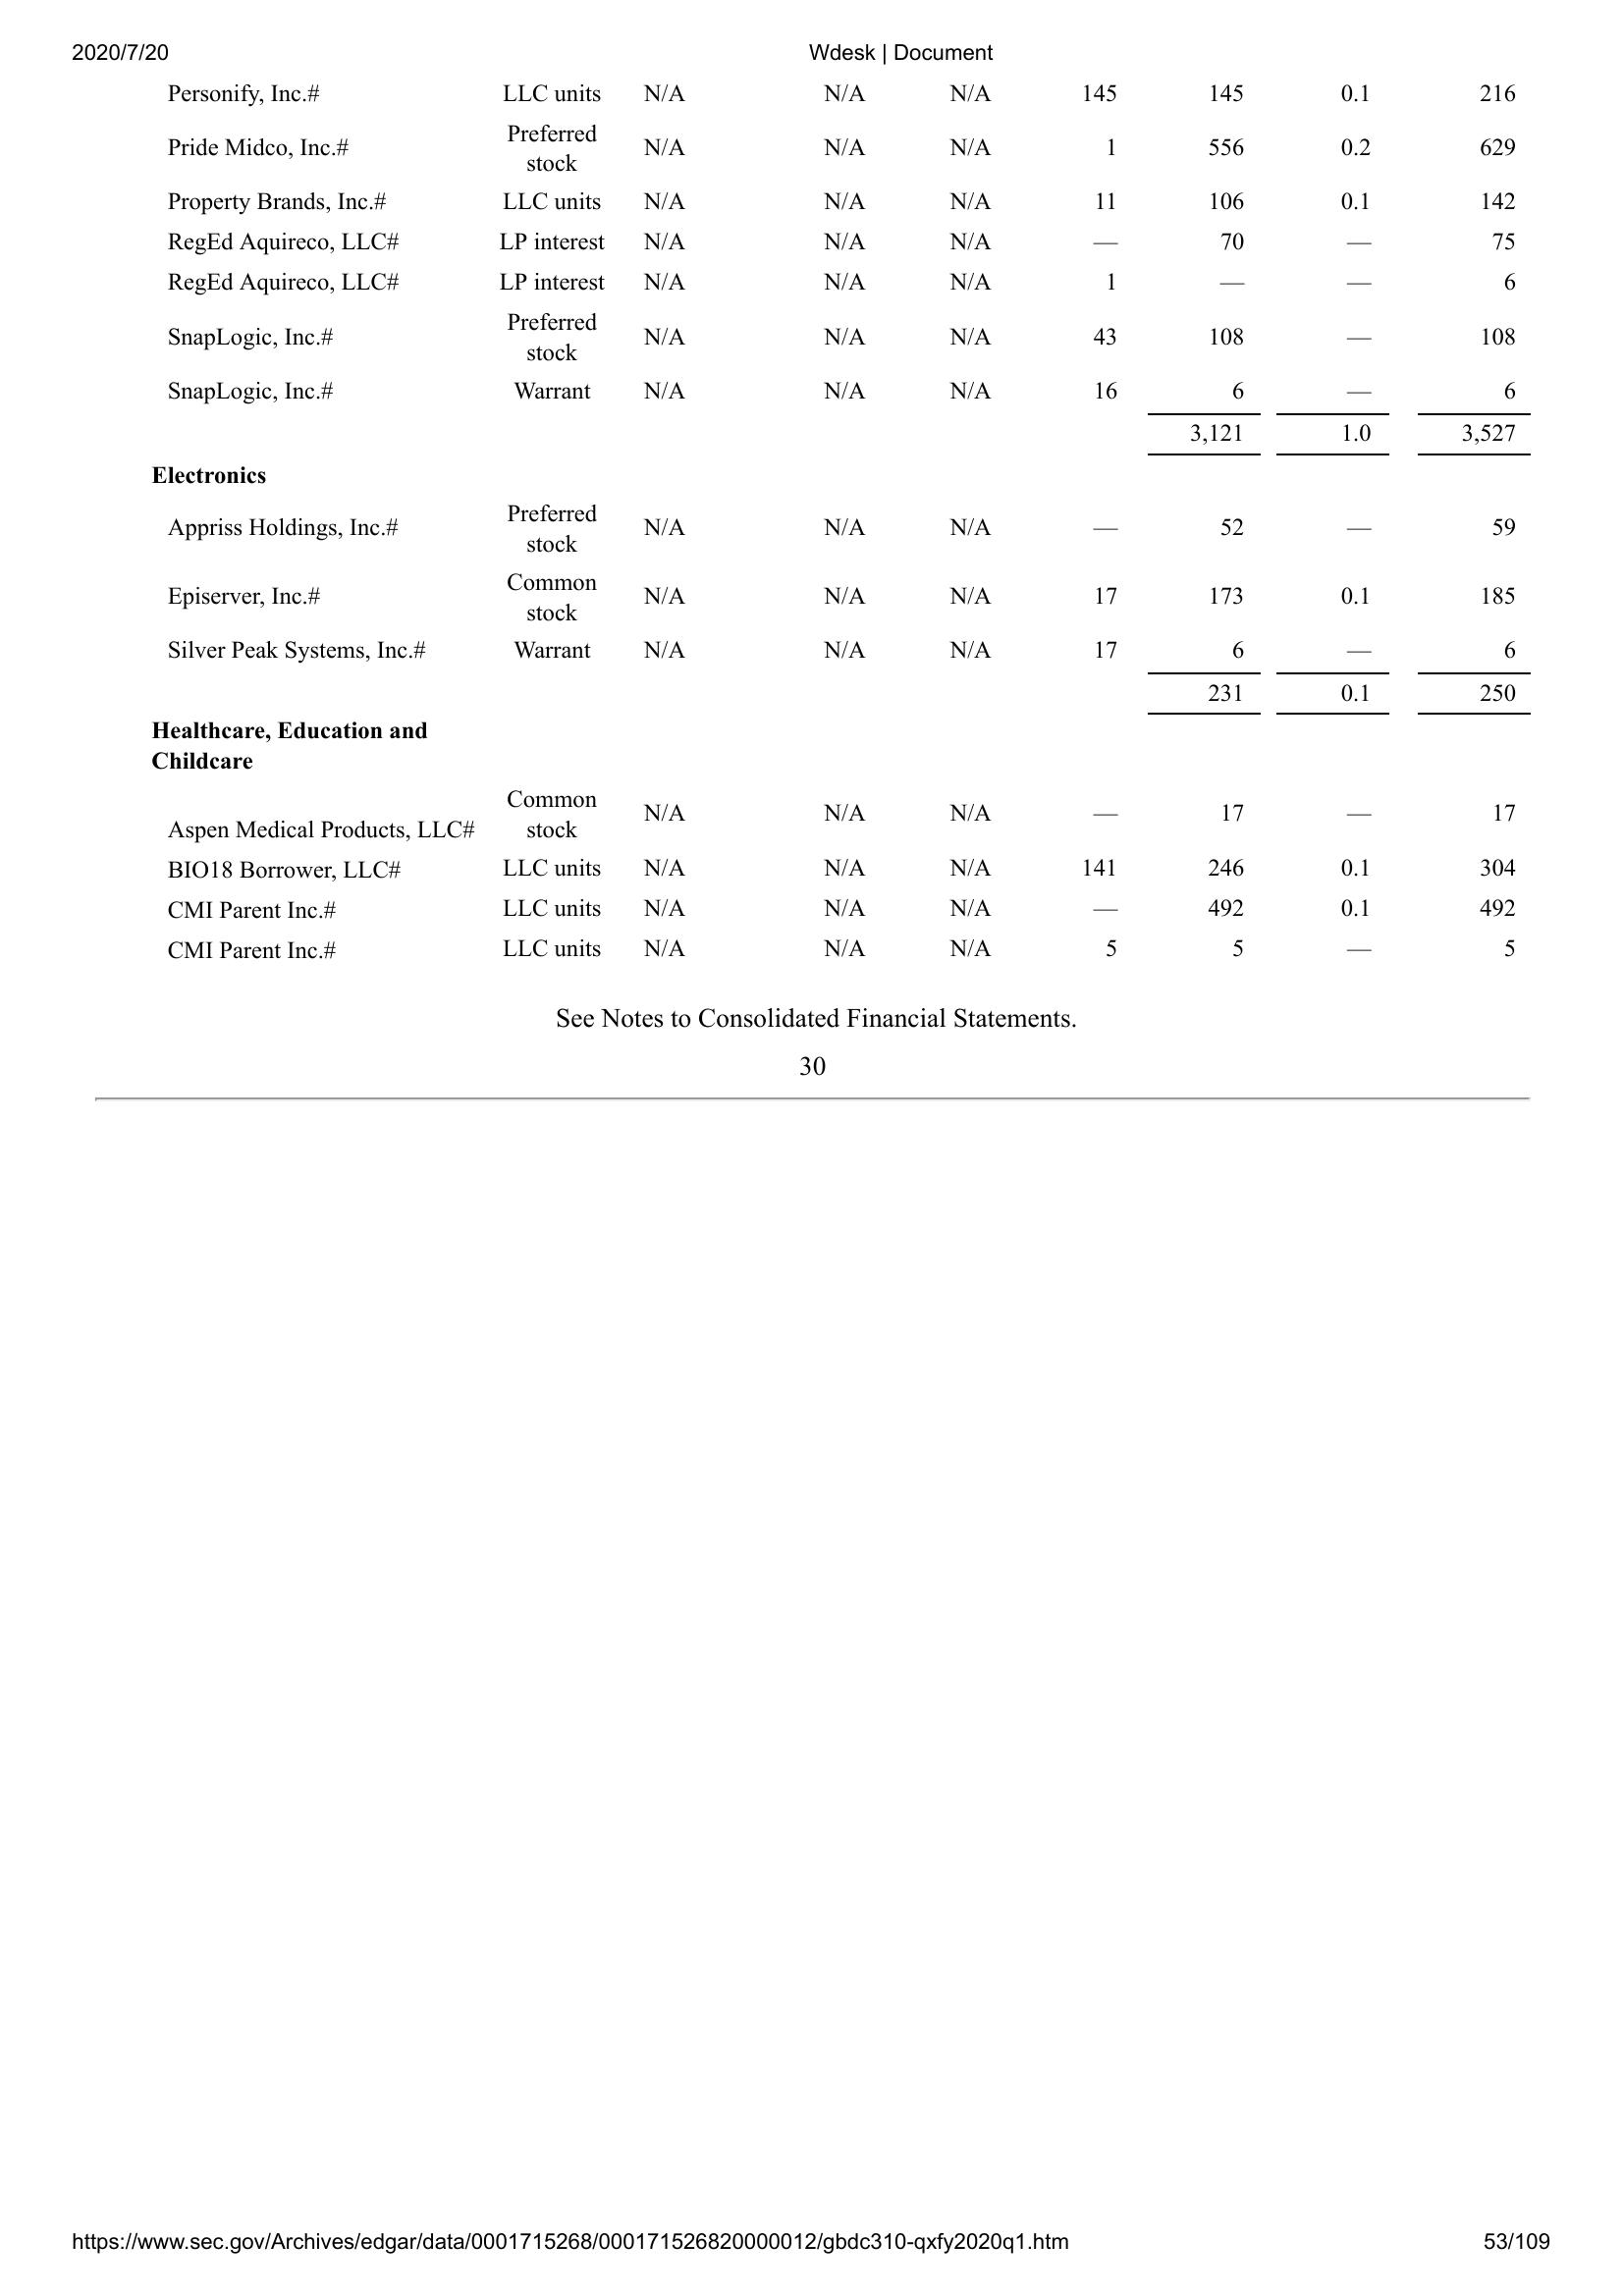table: (155, 70, 1533, 981)
